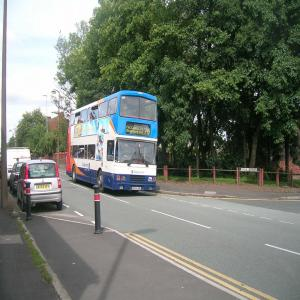Vehicle-registration-plate: (37, 186, 51, 190), (135, 188, 142, 192)
